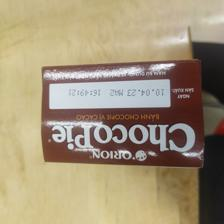Chocopie_cacao: (39, 55, 206, 177)
